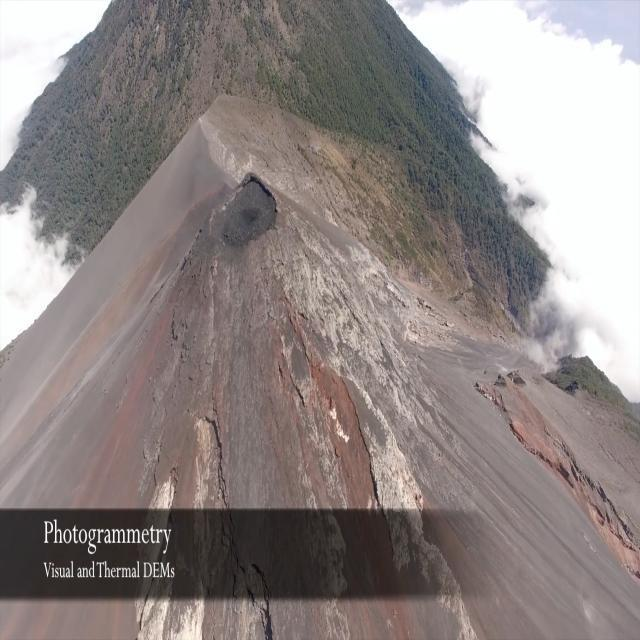Summit: (91, 150, 486, 508)
